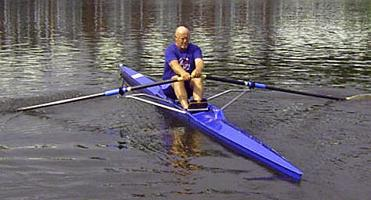person: (163, 26, 205, 110)
